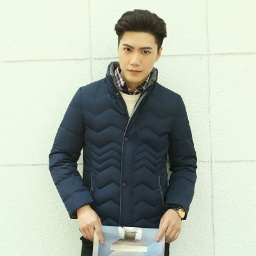face: (113, 9, 167, 83)
